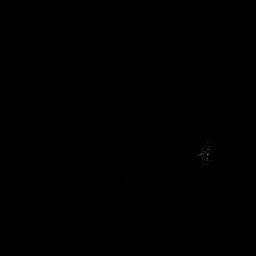ship: (196, 139, 214, 168)
